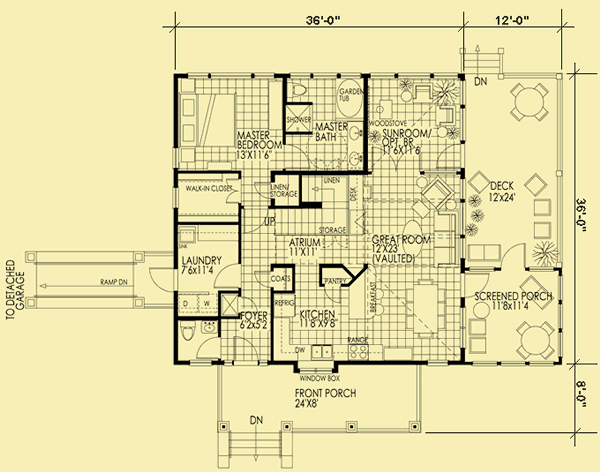hall has a dining table for eating and sitting: (376, 274, 463, 367)
kitchen has a kitchen counter, twin sink and cooking range: (268, 260, 389, 365)
laundry has washer and dryer: (174, 224, 241, 318)
livingroom has couches and round dining table for eating: (465, 269, 563, 369)
livingroom has couches and round dining table for eating and sitting: (463, 77, 561, 268)
livingroom has multiple couches with small couches and tables: (368, 73, 463, 275)
master bathroom has a large tub, shower space, dual sinks and large sink: (282, 72, 365, 174)
small bathroom has small and large sink: (177, 320, 222, 368)
this bedroom has a double bed with bedside stands: (174, 74, 283, 172)
